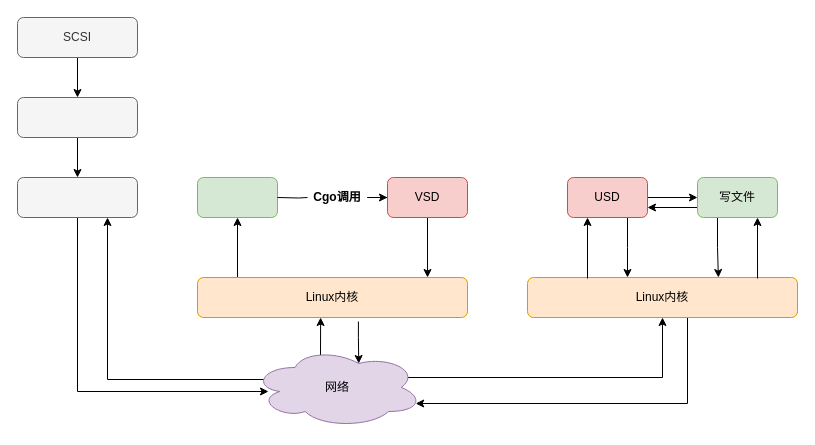
This 815x445 diagram has some shape labels left out. The centre of each missing label's shape, as x and y in pixels:
iSCSI: the point at 77,117
TCP/IP: the point at 77,197
魔改tgt: the point at 237,197
